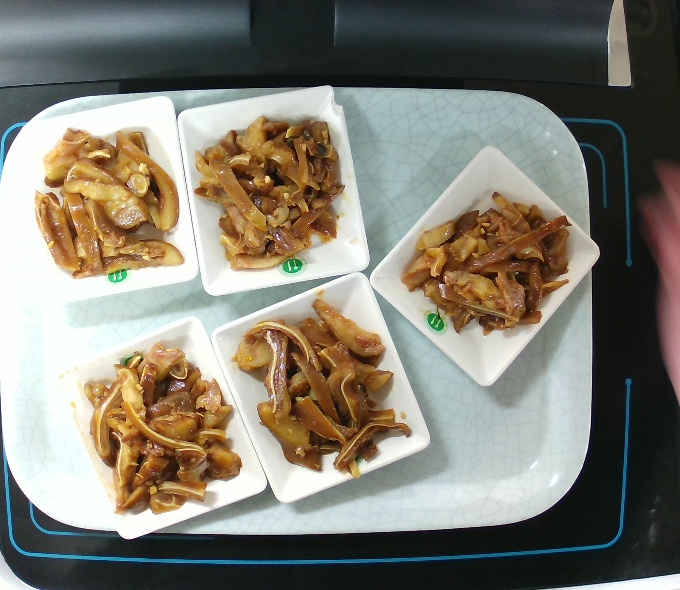wcq-ZhuErDuo: (229, 287, 415, 485), (82, 333, 253, 528), (395, 180, 574, 350), (189, 93, 343, 285), (19, 111, 193, 280)
